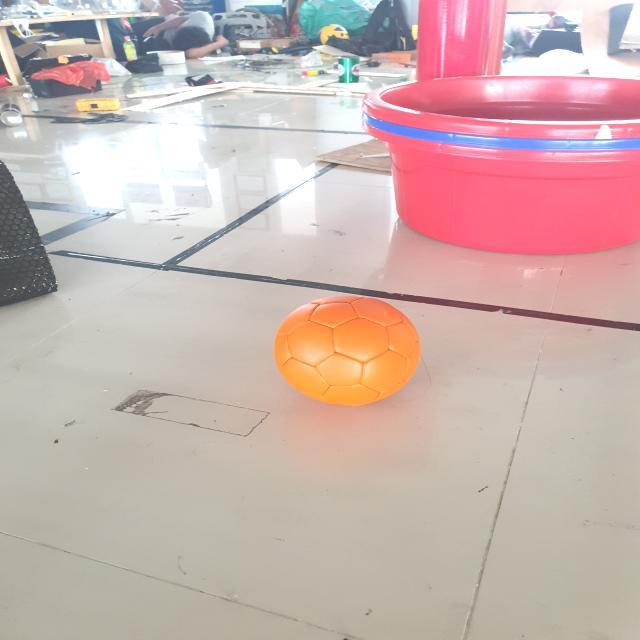bola: (264, 293, 441, 413)
